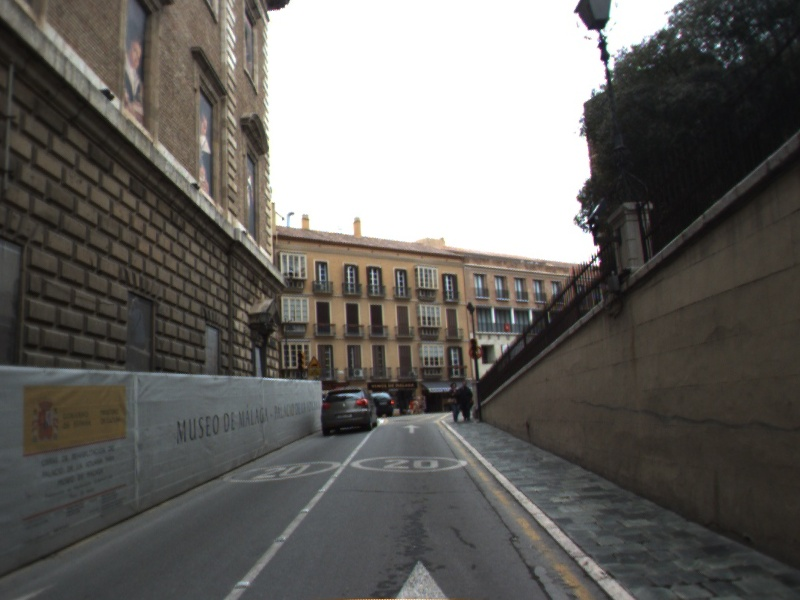STRAIGHT: (401, 423, 423, 435)
